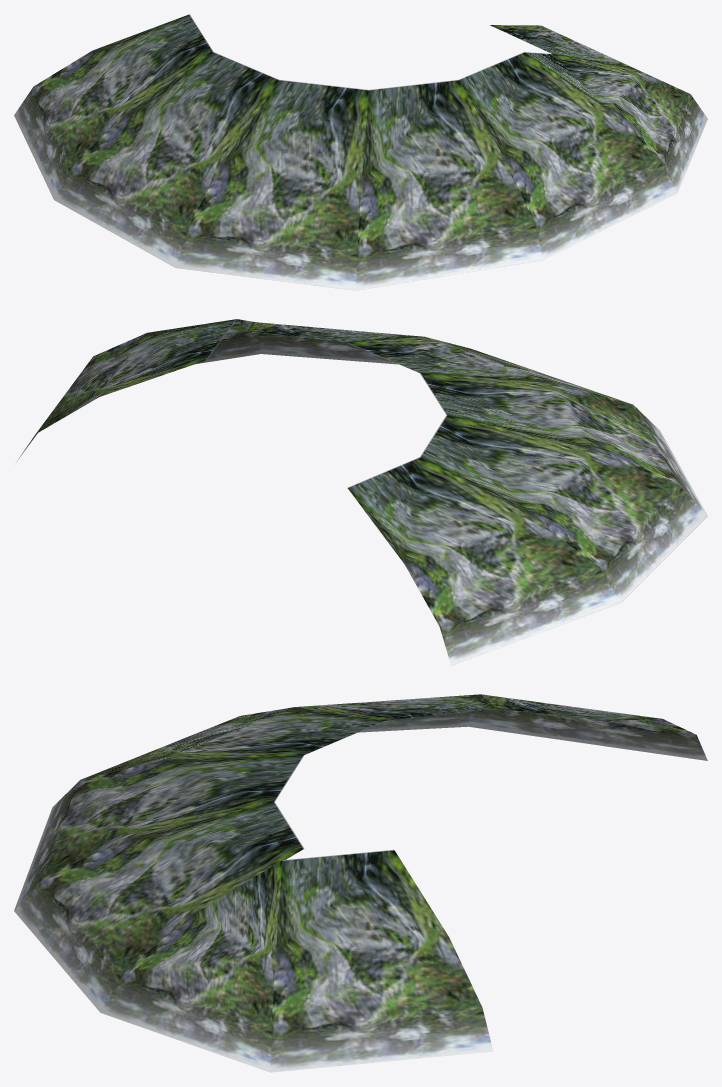
Rendered from nder106.obj.
3 views of the same model, one above another, from view 1: azimuth 30°, elevation 25°; view 2: azimuth 150°, elevation 25°; view 3: azimuth 270°, elevation 25° (orthographic). The views are drawn at different scales.
Visible parts, largest first — view 1: nder106; view 2: nder106; view 3: nder106.
Part boxes in pixels (left/top/right/bottom): nder106: left=14, top=14, right=707, bottom=290; nder106: left=17, top=319, right=707, bottom=665; nder106: left=14, top=694, right=707, bottom=1072.
Bounding box in the file's own units: 2229 × 365 × 1890.
